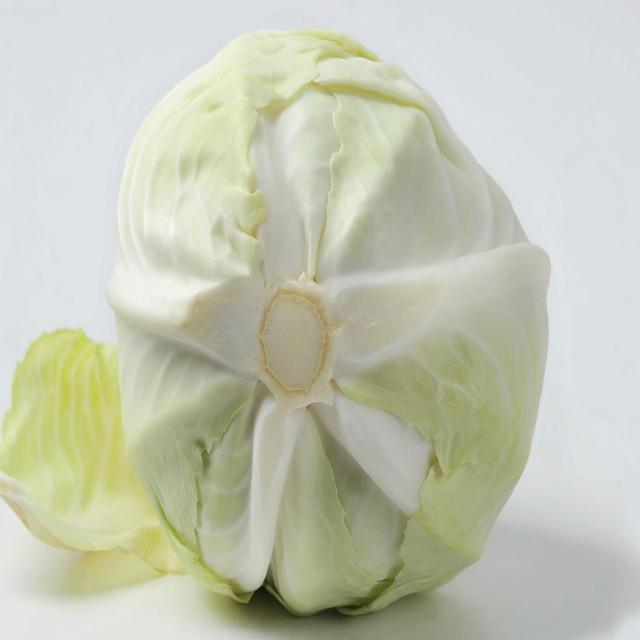cabbage: (99, 17, 553, 626)
